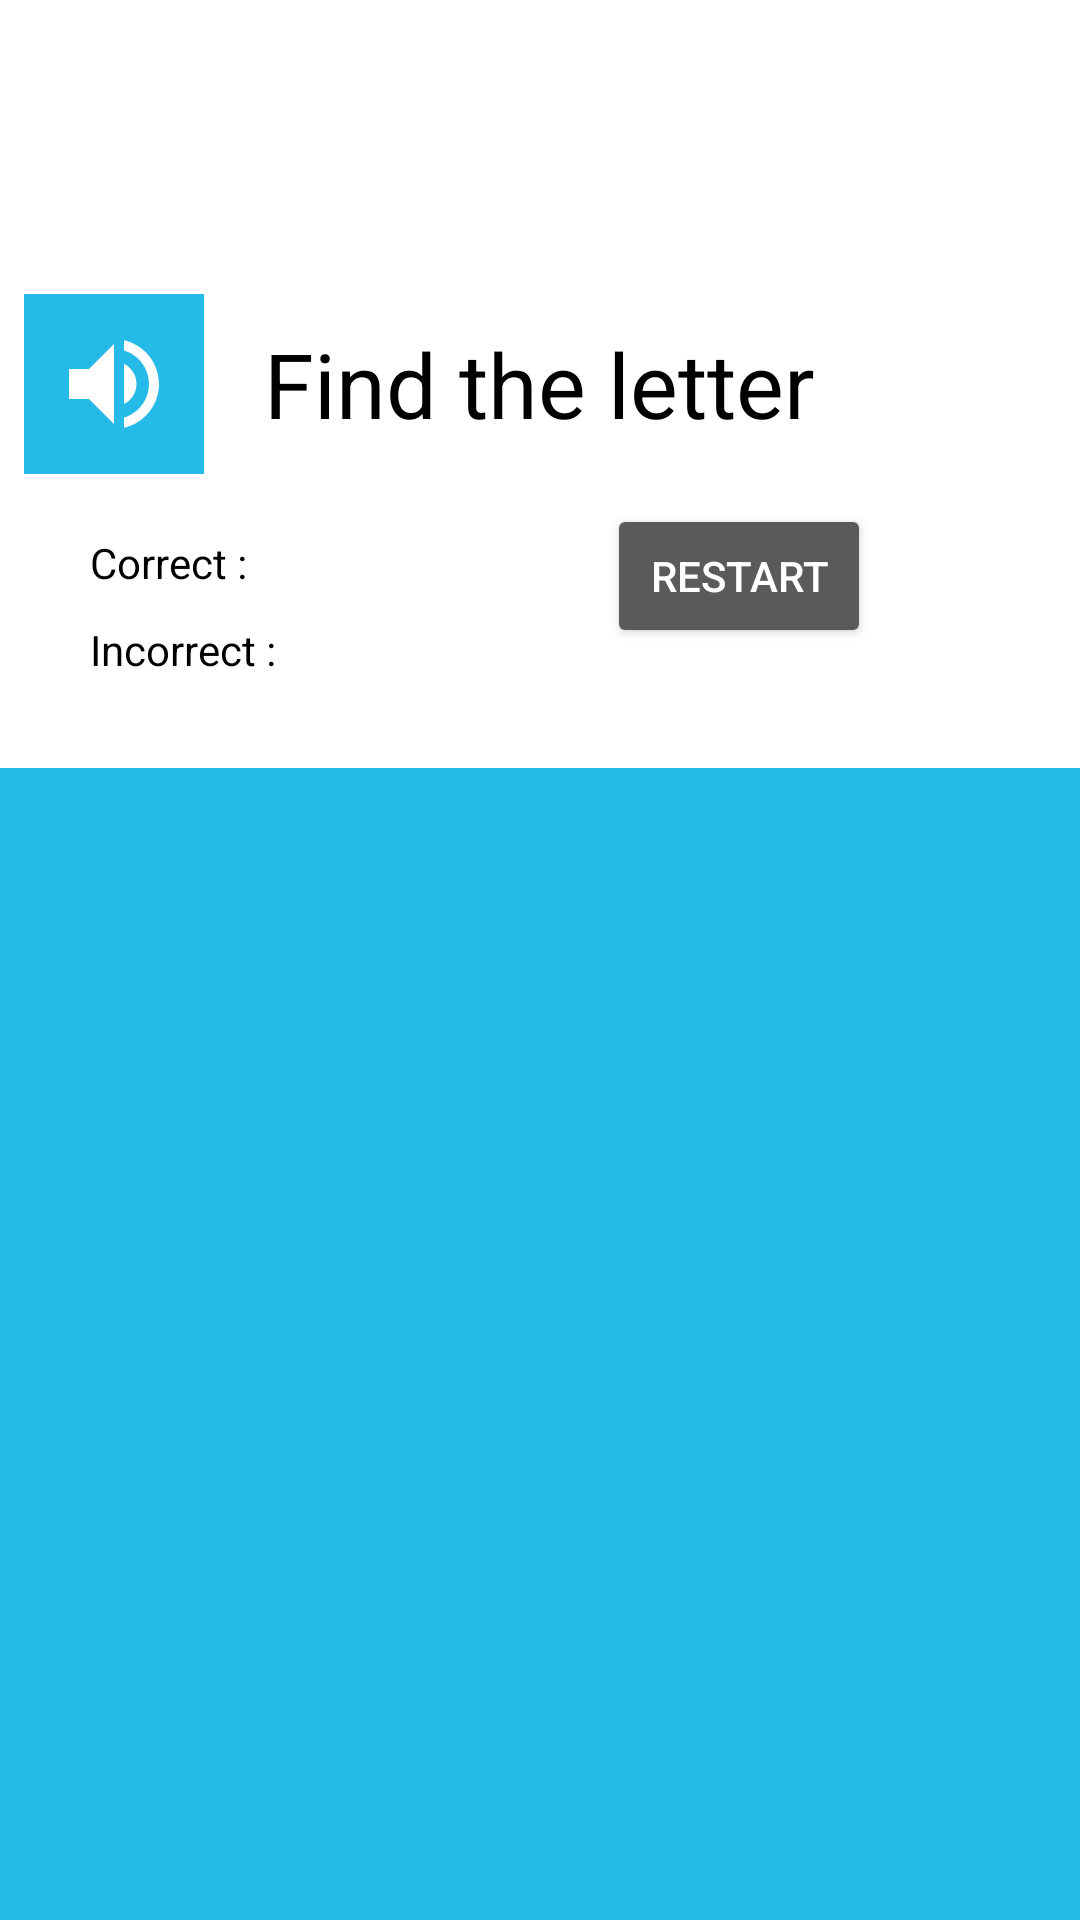

Icons on this 1080px x 1920px Android screen, each with its box as (x1, y1, x2, y2):
volume up: (24, 294, 204, 474)
